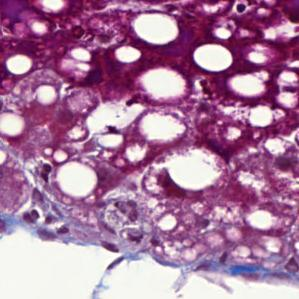ballooning: (161, 139, 230, 196)
